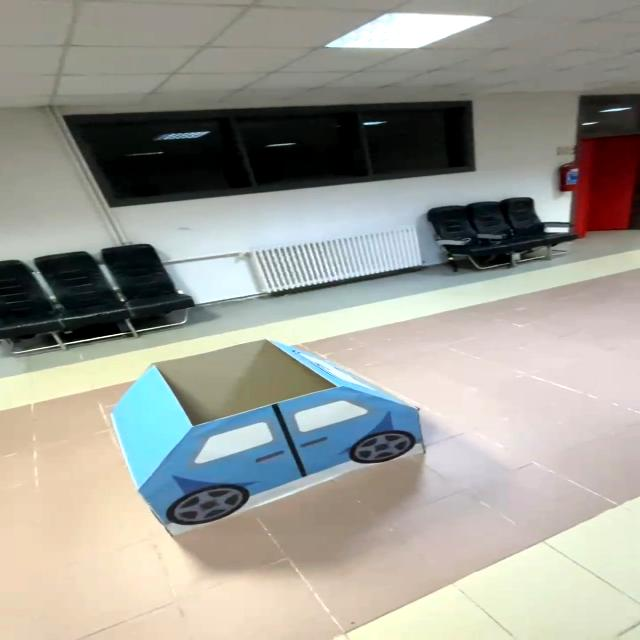blue_car: (59, 330, 477, 546)
